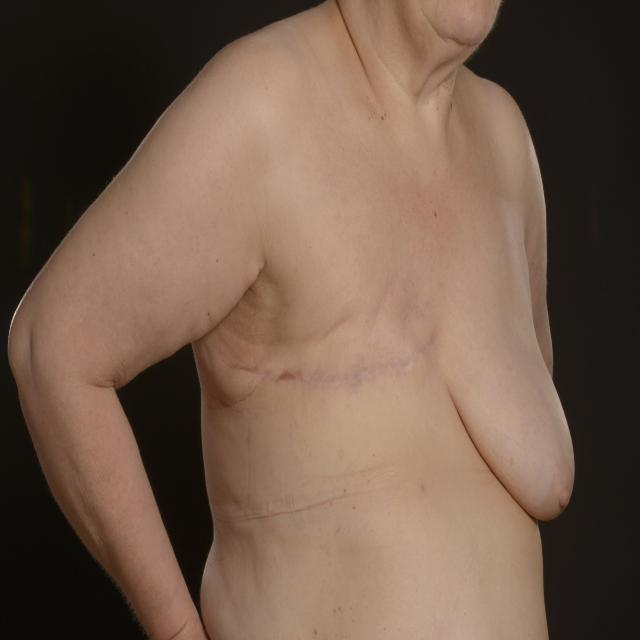wound: (221, 312, 456, 414)
